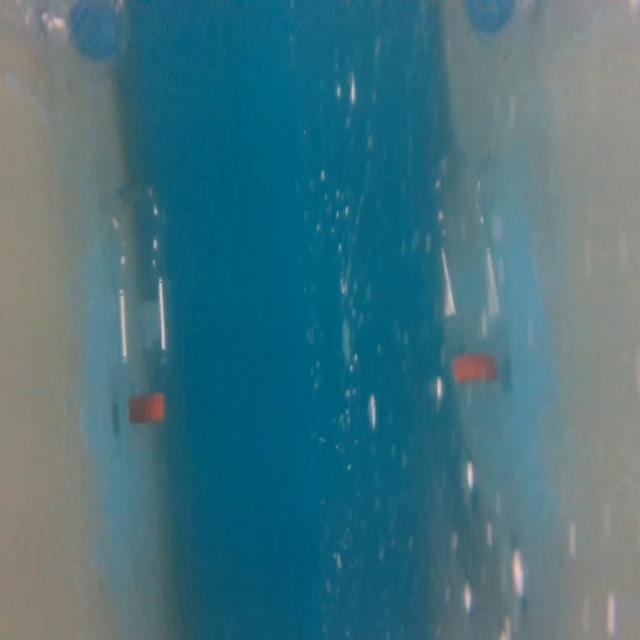plastic bottle: (99, 182, 193, 434)
